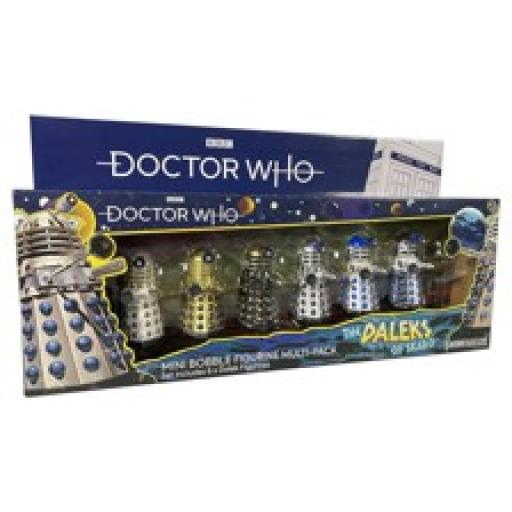dalek: (13, 194, 140, 396), (177, 247, 231, 343), (121, 249, 168, 353), (240, 239, 284, 339), (385, 231, 438, 314), (294, 234, 339, 326), (342, 234, 391, 318)
